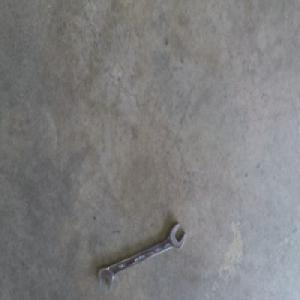Wrench: (97, 223, 185, 288)
